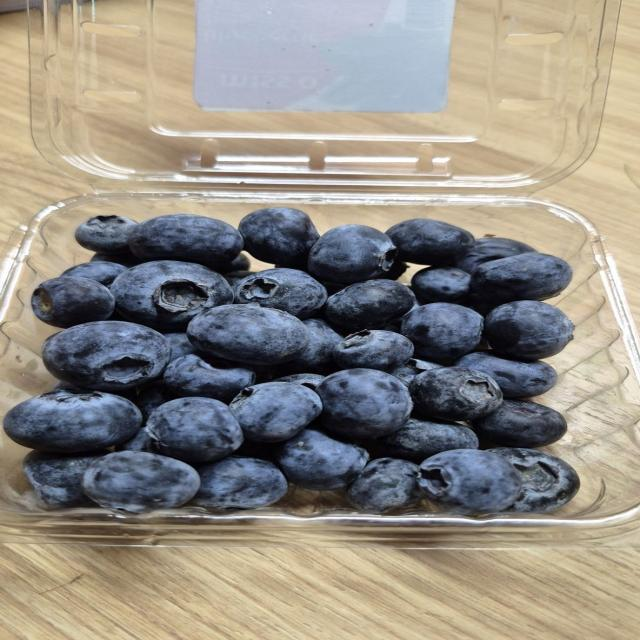blueberry: (42, 321, 169, 391), (4, 390, 141, 452), (111, 261, 233, 330), (83, 451, 199, 513), (187, 305, 308, 364), (418, 450, 521, 514), (317, 369, 412, 437), (145, 398, 243, 462), (129, 214, 243, 268), (490, 448, 579, 512), (278, 429, 368, 490), (230, 382, 322, 441), (485, 301, 573, 360), (308, 225, 397, 283), (194, 456, 287, 509), (409, 367, 502, 420), (472, 253, 572, 302), (23, 451, 108, 508), (455, 351, 557, 398), (239, 208, 319, 267), (401, 303, 483, 360), (235, 268, 326, 318), (325, 280, 415, 330), (473, 400, 566, 448), (164, 354, 255, 402), (378, 419, 478, 462), (32, 277, 114, 328), (347, 458, 423, 513), (387, 219, 473, 265), (334, 330, 413, 370), (454, 238, 535, 274), (291, 319, 342, 372), (75, 215, 137, 254), (412, 267, 470, 302), (134, 380, 175, 421), (61, 262, 126, 285), (389, 359, 441, 386), (115, 428, 160, 453), (234, 440, 280, 463), (164, 332, 196, 361), (464, 293, 501, 316), (90, 252, 143, 268), (273, 374, 325, 390), (216, 253, 250, 275), (224, 271, 254, 295), (375, 260, 408, 280), (50, 381, 92, 392)
